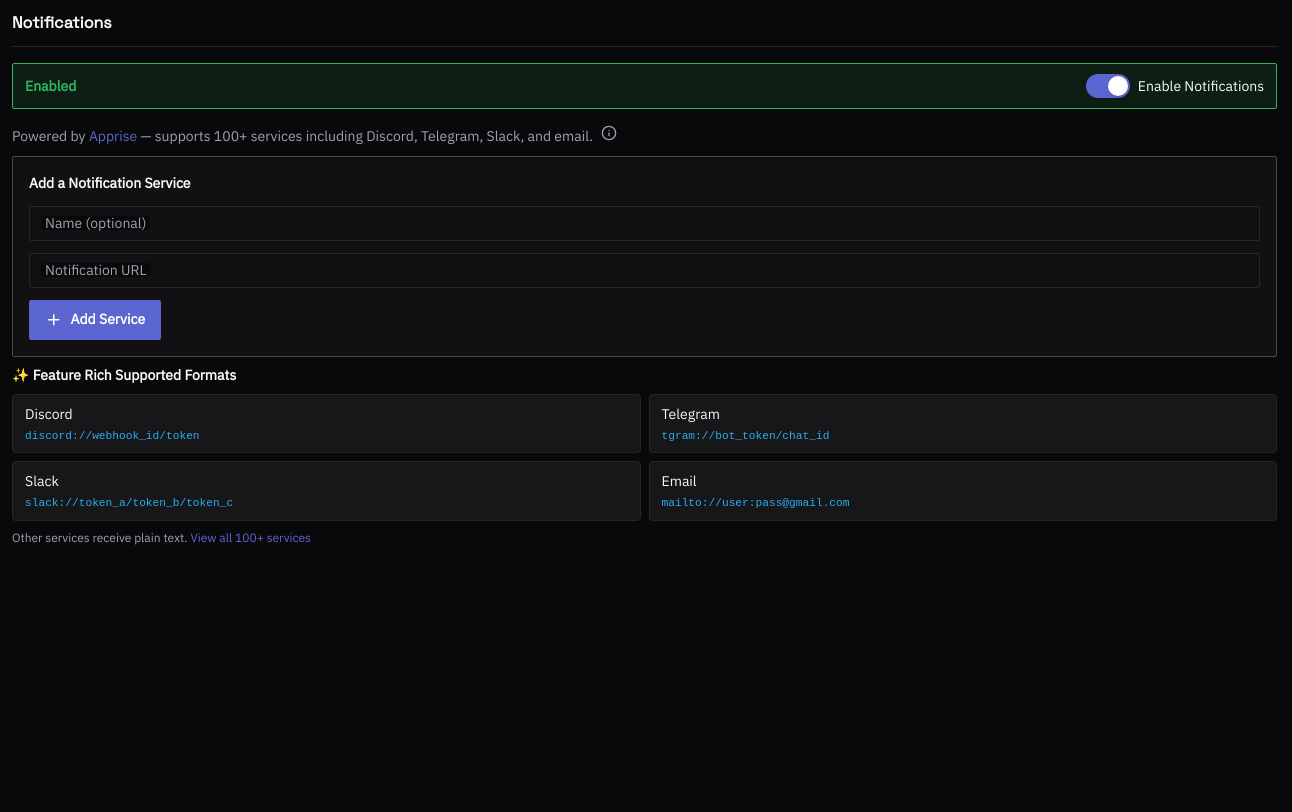
NotificationsSection editing, deleting and testing services › adding a service › resets rich formatting to on for the next service
Type "discord://a/b" into the field labelled "Notification URL".
click(644, 270); type("discord://a/b")  # box x1=29 y1=253 x2=1260 y2=288
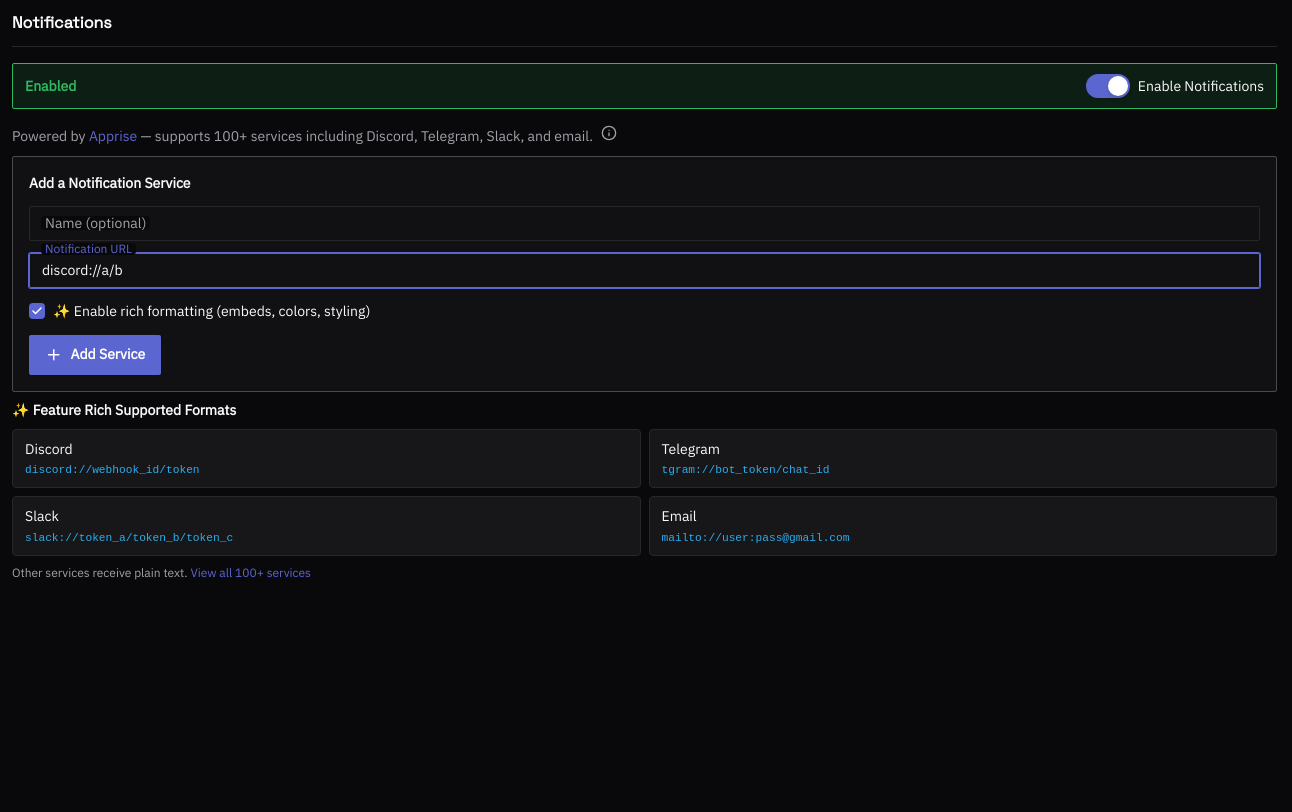
Click the checkbox named "rich formatting" below "Notification URL".
click(37, 311)  # box x1=29 y1=303 x2=45 y2=319
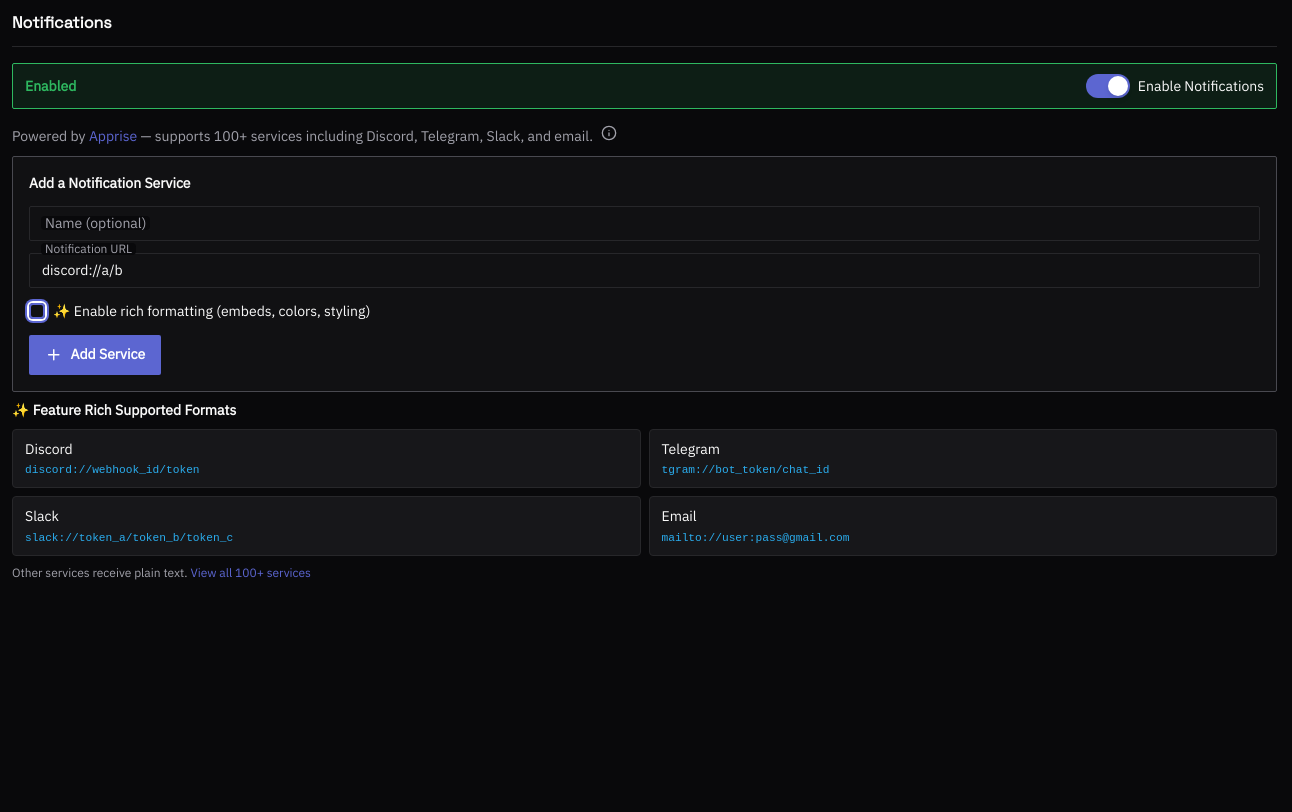
Click the button "Add Service".
click(95, 354)  # box x1=29 y1=334 x2=161 y2=374
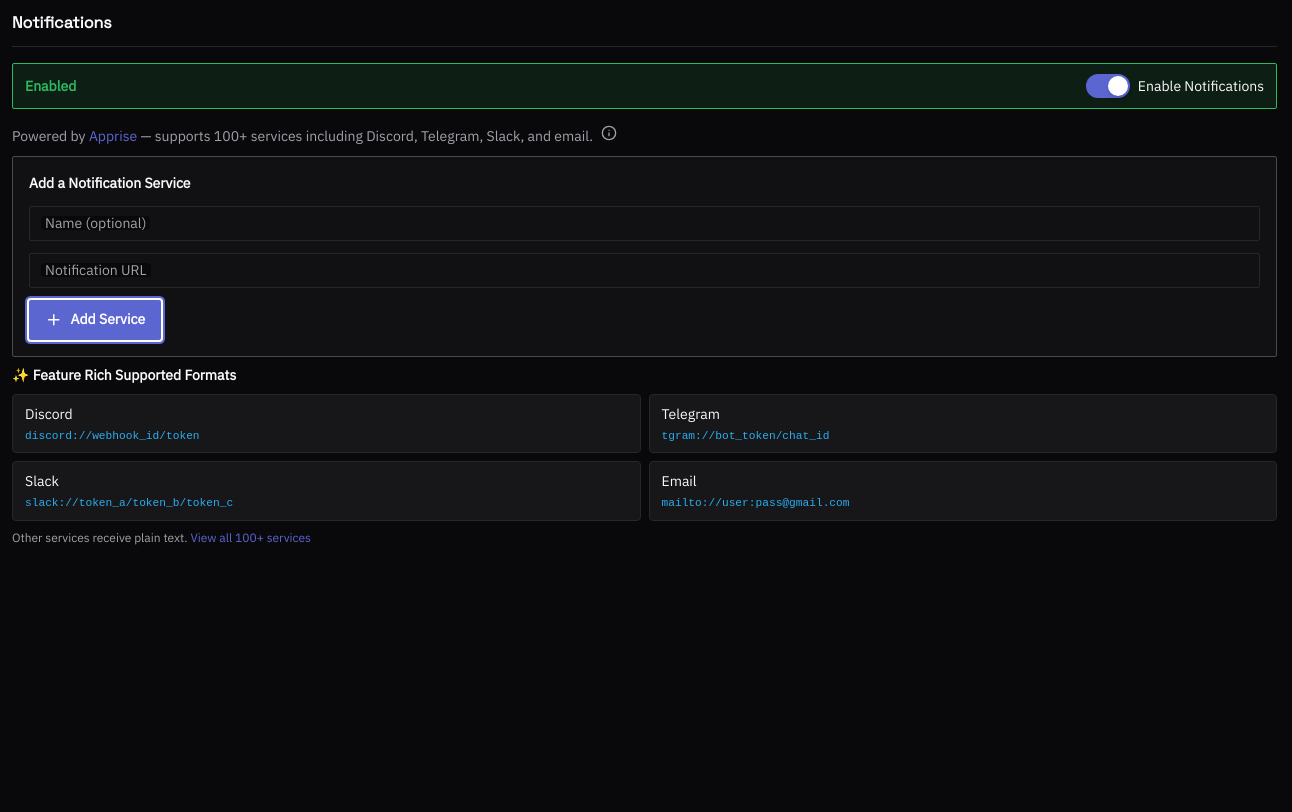
Type "discord://c/d" into the field labelled "Notification URL".
click(644, 270); type("discord://c/d")  # box x1=29 y1=253 x2=1260 y2=288
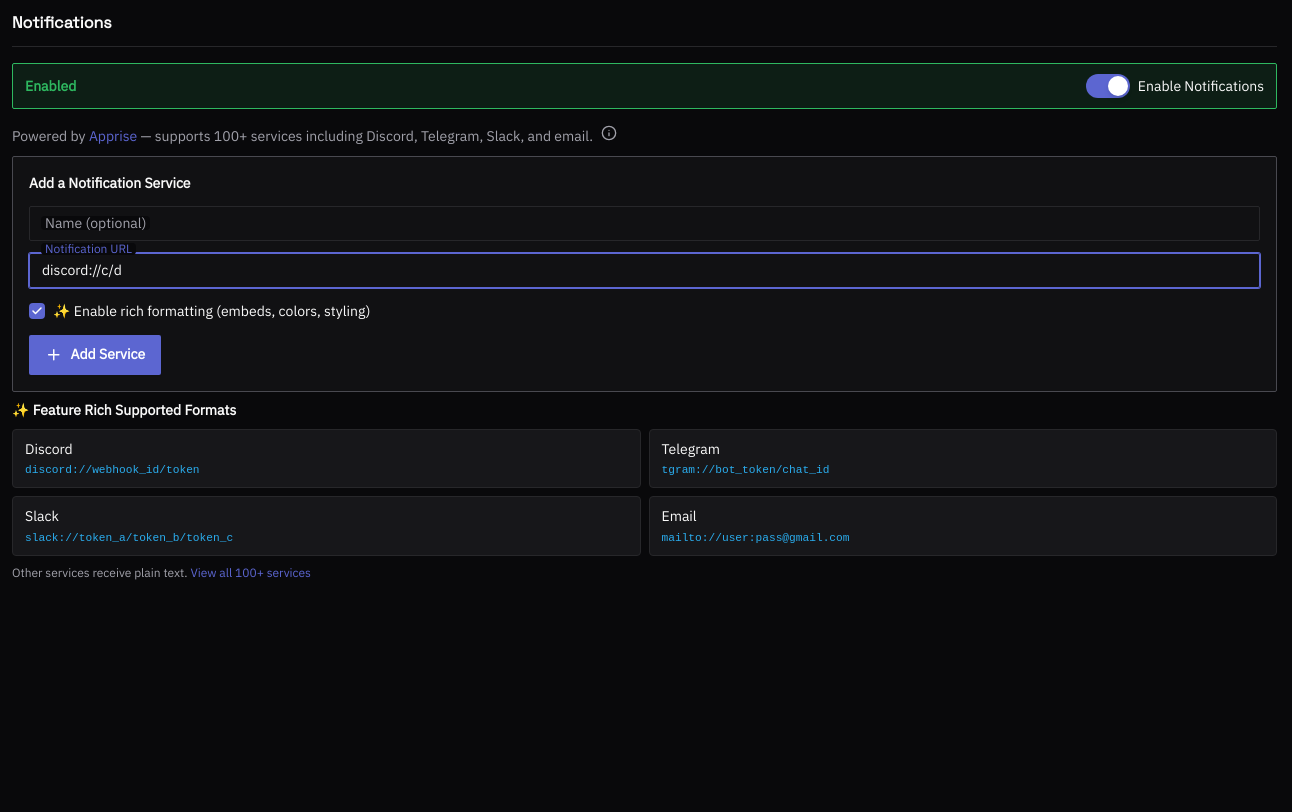
Expected: the checkbox named "rich formatting" below "Notification URL" is checked, x1=29 y1=303 x2=45 y2=319
